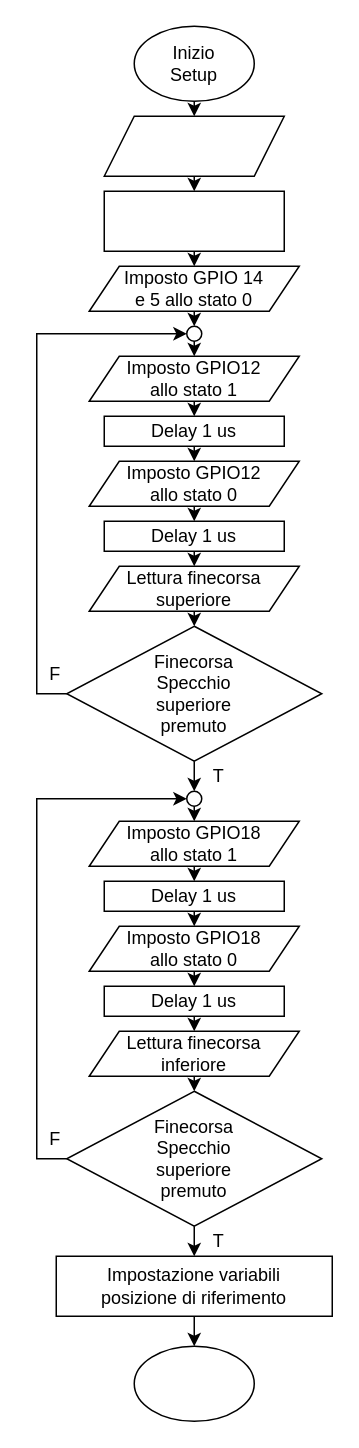
The diagram is 359 pixels wide and 1448 high, and some of its shapes have lost their labels. Here are the shapes that lost their labels. From the top down, the centre of each, then its label:
At (193,145): "Inizializzazione Input/Output".
At (193,220): "Inizializzazione variabili".
At (193,1383): "Fine Setup".
